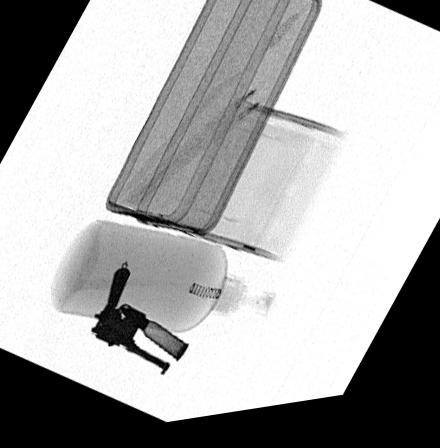Bullet: (120, 309, 189, 366)
Gun: (91, 270, 173, 378)
